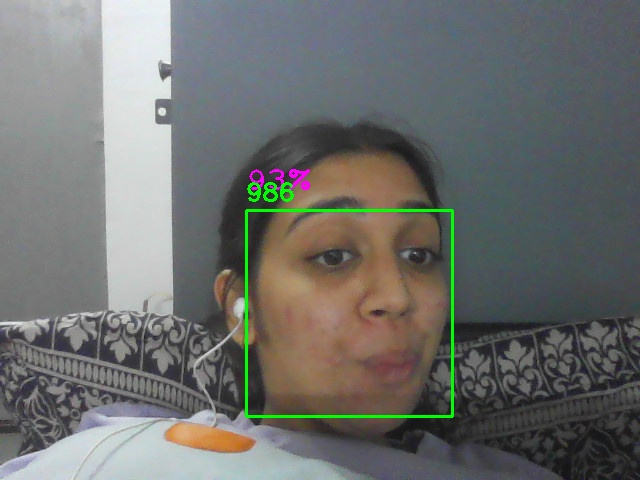real: (246, 210, 453, 417)
